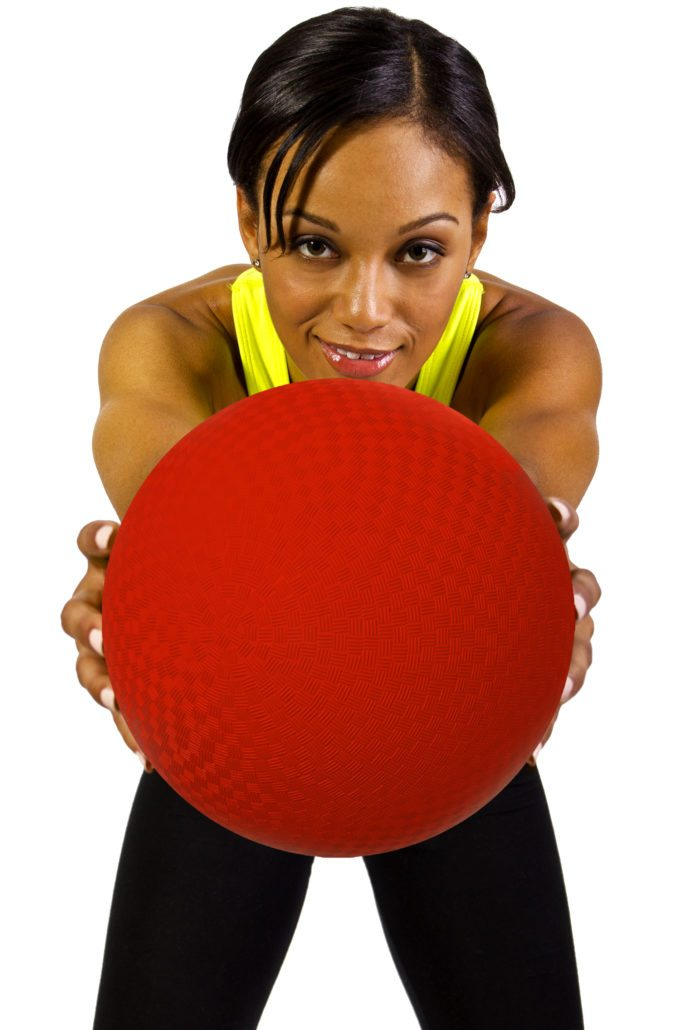red ball: (101, 376, 576, 860)
